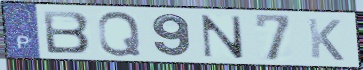7: (252, 13, 294, 64)
9: (149, 12, 193, 59)
B: (40, 9, 92, 55)
K: (305, 16, 347, 63)
N: (199, 13, 246, 60)
Q: (96, 10, 144, 58)
